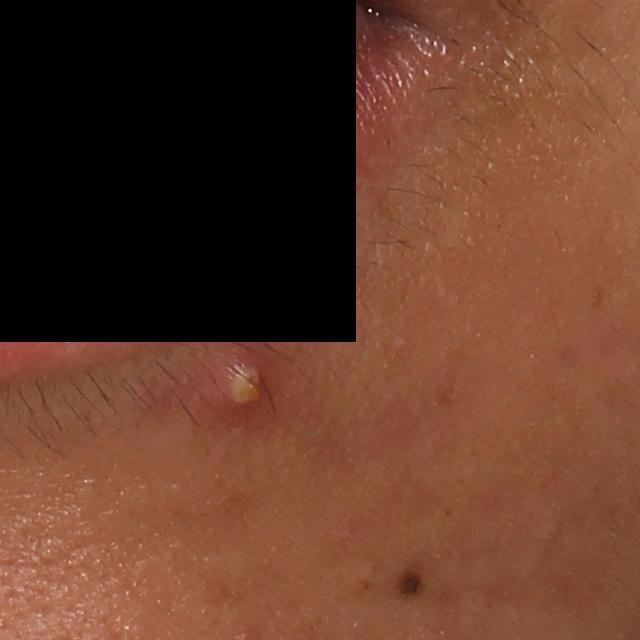nevus: (392, 567, 424, 601)
pustule: (202, 350, 282, 417)
